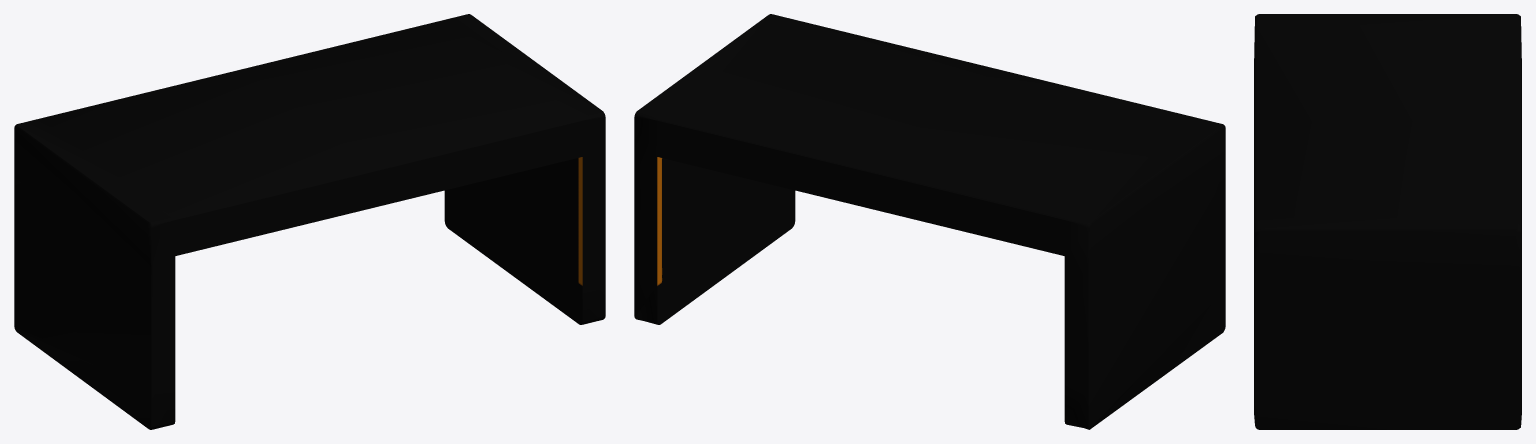
File: Tisch.fbx
The picture shows the model from 3 angles, left to right: view 1: azimuth 30°, elevation 25°; view 2: azimuth 150°, elevation 25°; view 3: azimuth 270°, elevation 25°; orthographic projection. The views are drawn at different scales.
Visible parts, largest first — view 1: Tisch_1; view 2: Tisch_1; view 3: Tisch_1.
Part boxes in pixels (x1,y1,x2,y2): Tisch_1: (14, 14, 605, 429); Tisch_1: (634, 14, 1225, 429); Tisch_1: (1254, 14, 1521, 429).
Bounding box in the file's own units: 263 × 114 × 138.
1 material, 1 textured.
